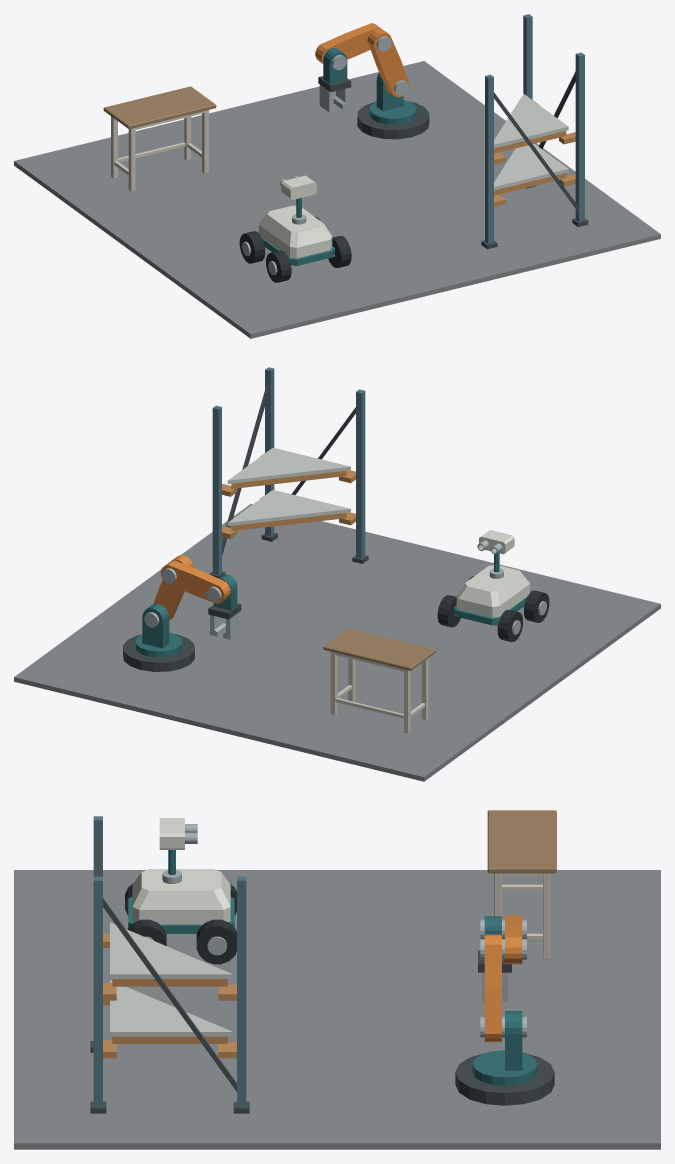
3 views of the same model, one above another, from view 1: azimuth 30°, elevation 25°; view 2: azimuth 150°, elevation 25°; view 3: azimuth 270°, elevation 25° (orthographic). The views are drawn at different scales.
Parts seen in each view (by area): view 1: SCENE_ONLY__SupportFloor, parked_inspection_rover__ContinuousSlopedElectronicsHousing, empty_service_worktable__Complete work surface, empty_corner_storage__UpperWholeCornerShelf, empty_corner_storage__LowerWholeCornerShelf, empty_corner_storage__FullHeightPost_1, empty_corner_storage__FullHeightPost_2, fixed_arm_inspection__RoundGroundBase, fixed_arm_inspection__ContinuousUpperArm, fixed_arm_inspection__ContinuousForearm, empty_corner_storage__FullHeightPost_3, fixed_arm_inspection__RoundTurntableSeat (+9 smaller); view 2: SCENE_ONLY__SupportFloor, parked_inspection_rover__ContinuousSlopedElectronicsHousing, empty_service_worktable__Complete work surface, empty_corner_storage__LowerWholeCornerShelf, empty_corner_storage__UpperWholeCornerShelf, empty_corner_storage__FullHeightPost_2, empty_corner_storage__FullHeightPost_3, fixed_arm_inspection__RoundGroundBase, fixed_arm_inspection__ContinuousForearm, empty_corner_storage__FullHeightPost_1, fixed_arm_inspection__BoredShoulderPedestal, fixed_arm_inspection__ContinuousUpperArm (+6 smaller); view 3: SCENE_ONLY__SupportFloor, parked_inspection_rover__ContinuousSlopedElectronicsHousing, empty_service_worktable__Complete work surface, empty_corner_storage__LowerWholeCornerShelf, empty_corner_storage__UpperWholeCornerShelf, fixed_arm_inspection__RoundGroundBase, empty_corner_storage__FullHeightPost_1, empty_corner_storage__FullHeightPost_3, fixed_arm_inspection__ContinuousUpperArm, fixed_arm_inspection__RoundTurntableSeat, empty_corner_storage__BackYCompleteDiagonalBrace, parked_inspection_rover__FrontLeftWheel (+8 smaller).
Boxes of the visible parts, <box> form: SCENE_ONLY__SupportFloor: <box>14,61,660,338</box>; parked_inspection_rover__ContinuousSlopedElectronicsHousing: <box>259,205,332,258</box>; empty_service_worktable__Complete work surface: <box>103,86,216,129</box>; empty_corner_storage__UpperWholeCornerShelf: <box>494,93,568,148</box>; empty_corner_storage__LowerWholeCornerShelf: <box>494,144,568,190</box>; empty_corner_storage__FullHeightPost_1: <box>575,52,584,221</box>; empty_corner_storage__FullHeightPost_2: <box>485,74,493,243</box>; fixed_arm_inspection__RoundGroundBase: <box>357,101,429,139</box>; fixed_arm_inspection__ContinuousUpperArm: <box>367,28,410,97</box>; fixed_arm_inspection__ContinuousForearm: <box>315,23,381,63</box>; empty_corner_storage__FullHeightPost_3: <box>523,14,532,99</box>; fixed_arm_inspection__RoundTurntableSeat: <box>370,100,416,124</box>; SCENE_ONLY__SupportFloor: <box>14,504,660,781</box>; parked_inspection_rover__ContinuousSlopedElectronicsHousing: <box>456,565,529,617</box>; empty_service_worktable__Complete work surface: <box>323,628,435,670</box>; empty_corner_storage__LowerWholeCornerShelf: <box>227,490,350,526</box>; empty_corner_storage__UpperWholeCornerShelf: <box>227,447,350,483</box>; empty_corner_storage__FullHeightPost_2: <box>356,389,365,558</box>; empty_corner_storage__FullHeightPost_3: <box>212,405,221,574</box>; fixed_arm_inspection__RoundGroundBase: <box>123,634,194,671</box>; fixed_arm_inspection__ContinuousForearm: <box>161,560,230,603</box>; empty_corner_storage__FullHeightPost_1: <box>265,367,274,536</box>; fixed_arm_inspection__BoredShoulderPedestal: <box>142,603,169,648</box>; fixed_arm_inspection__ContinuousUpperArm: <box>153,555,193,620</box>; SCENE_ONLY__SupportFloor: <box>14,870,660,1149</box>; parked_inspection_rover__ContinuousSlopedElectronicsHousing: <box>132,869,230,924</box>; empty_service_worktable__Complete work surface: <box>487,810,556,873</box>; empty_corner_storage__LowerWholeCornerShelf: <box>110,980,233,1036</box>; empty_corner_storage__UpperWholeCornerShelf: <box>110,922,233,978</box>; fixed_arm_inspection__RoundGroundBase: <box>455,1052,554,1105</box>; empty_corner_storage__FullHeightPost_1: <box>93,876,102,1106</box>; empty_corner_storage__FullHeightPost_3: <box>237,876,246,1106</box>; fixed_arm_inspection__ContinuousUpperArm: <box>484,934,501,1042</box>; fixed_arm_inspection__RoundTurntableSeat: <box>472,1050,537,1085</box>; empty_corner_storage__BackYCompleteDiagonalBrace: <box>103,898,236,1091</box>; parked_inspection_rover__FrontLeftWheel: <box>196,919,236,964</box>.
Size of the model in its own units: 5.6 by 2.27 by 5.6.
